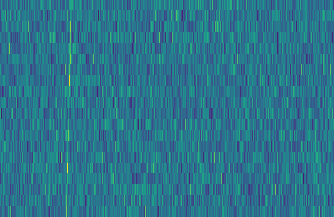signal: (60, 0, 74, 217)
